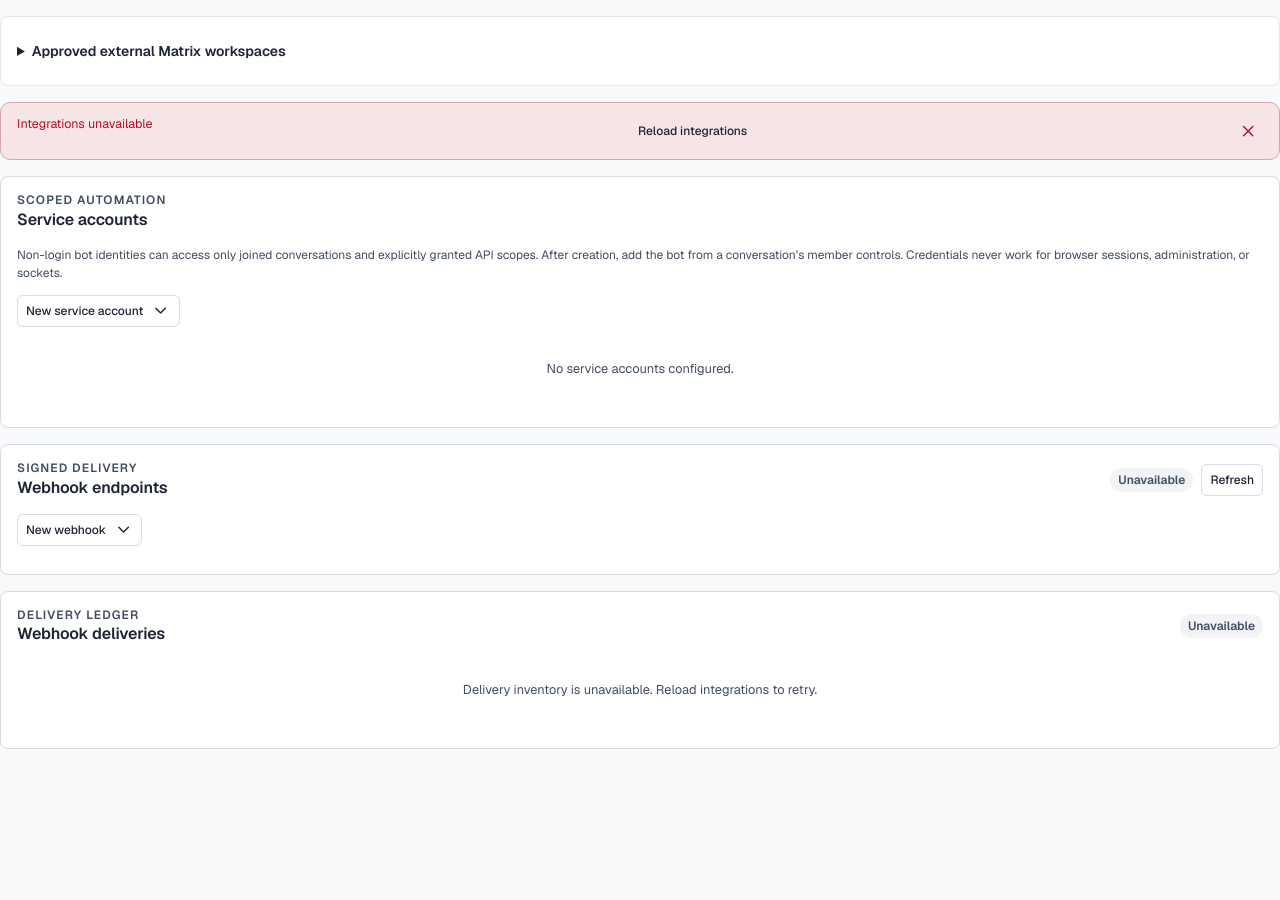
Test: IntegrationsPanel one-time secret handling › gives integration-load errors a descriptive dismiss control
Check: the message shows "Integrations unavailable", box [17,115,153,132]
Check: the text "Delivery inventory is unavailable. Reload integrations to retry." is shown, box [463,681,817,698]
Step 1. Click the button named "Dismiss integrations error" → (1248, 131), box [1233,115,1263,147]
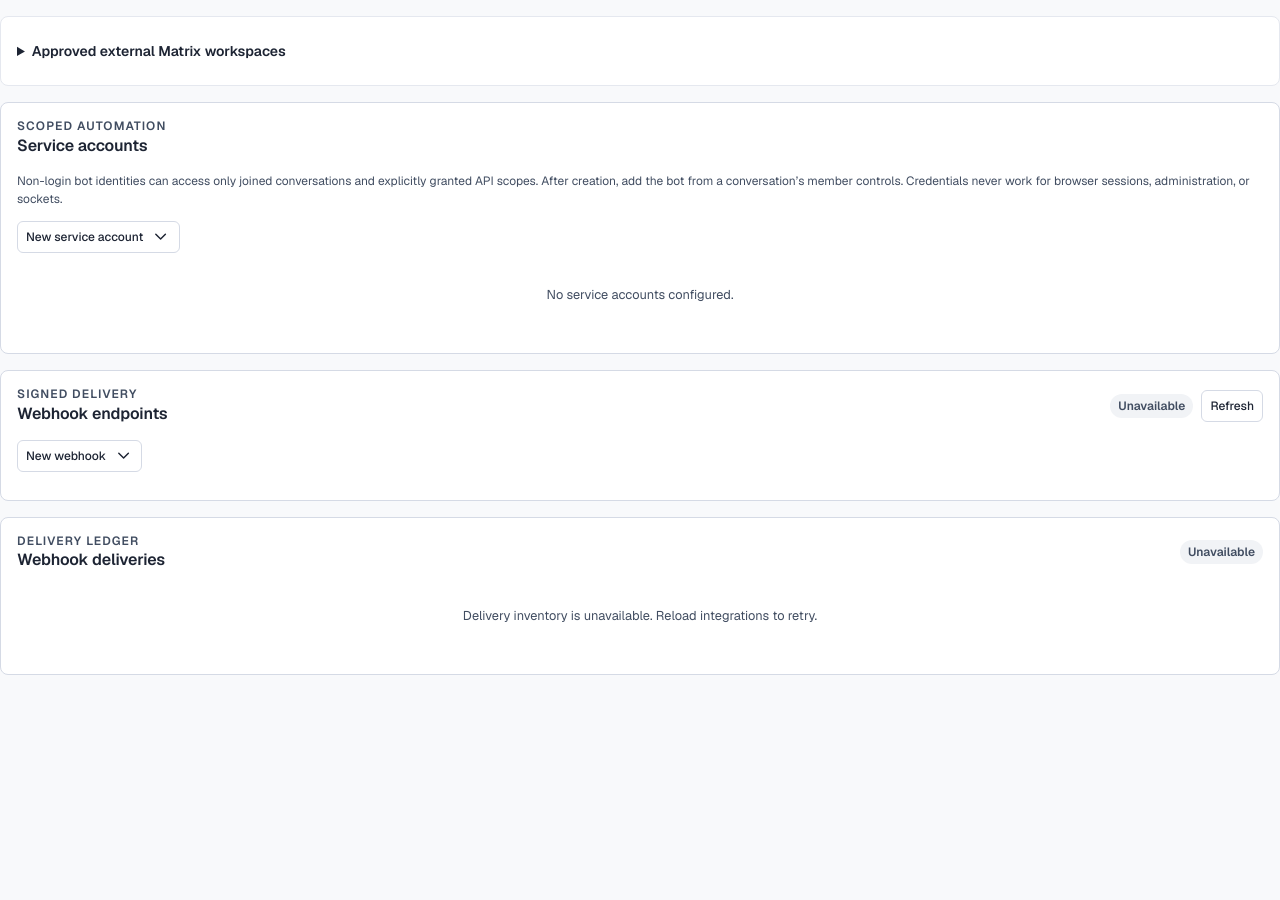
Check: the text "Delivery inventory is unavailable. Reload integrations to retry." is shown, box [463,607,817,624]
Check: the message "Integrations unavailable Reload integrations" is gone
